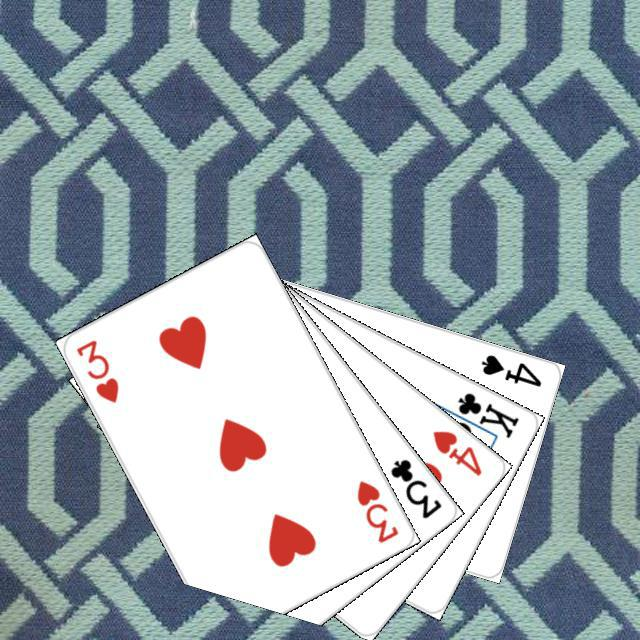3c: (385, 454, 444, 521)
3h: (71, 334, 121, 405), (351, 475, 401, 545)
4h: (427, 425, 484, 478)
4s: (476, 349, 543, 389)
Kc: (440, 387, 521, 441)
